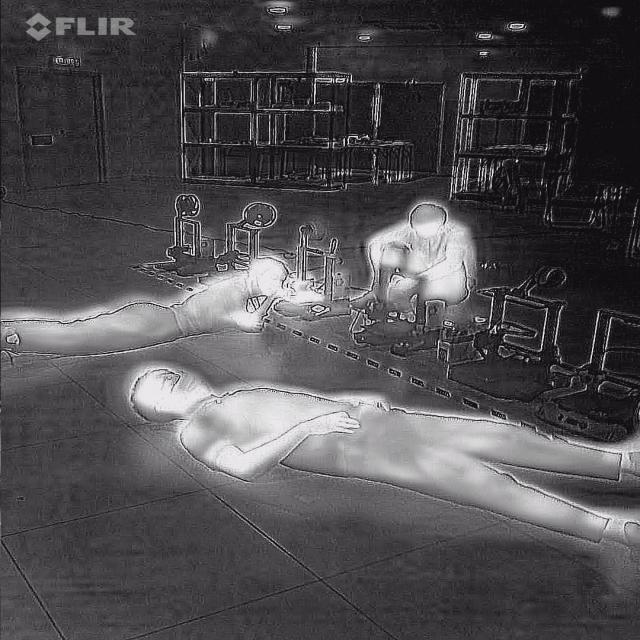Victim: (117, 364, 638, 562), (3, 248, 289, 364), (338, 195, 479, 314)
